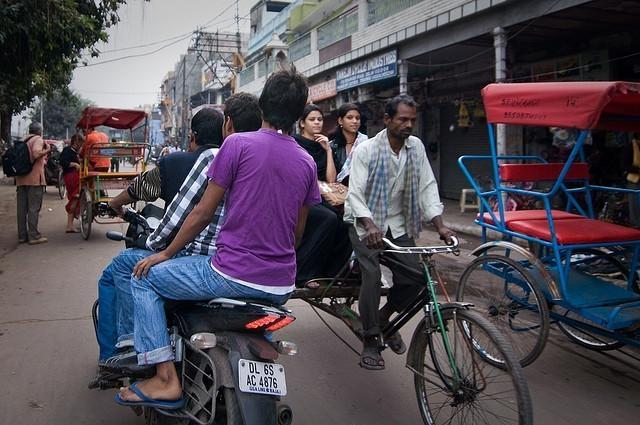bicycle: (448, 79, 640, 368), (300, 226, 532, 418), (602, 194, 624, 220)
motorcycle: (130, 296, 300, 418)
